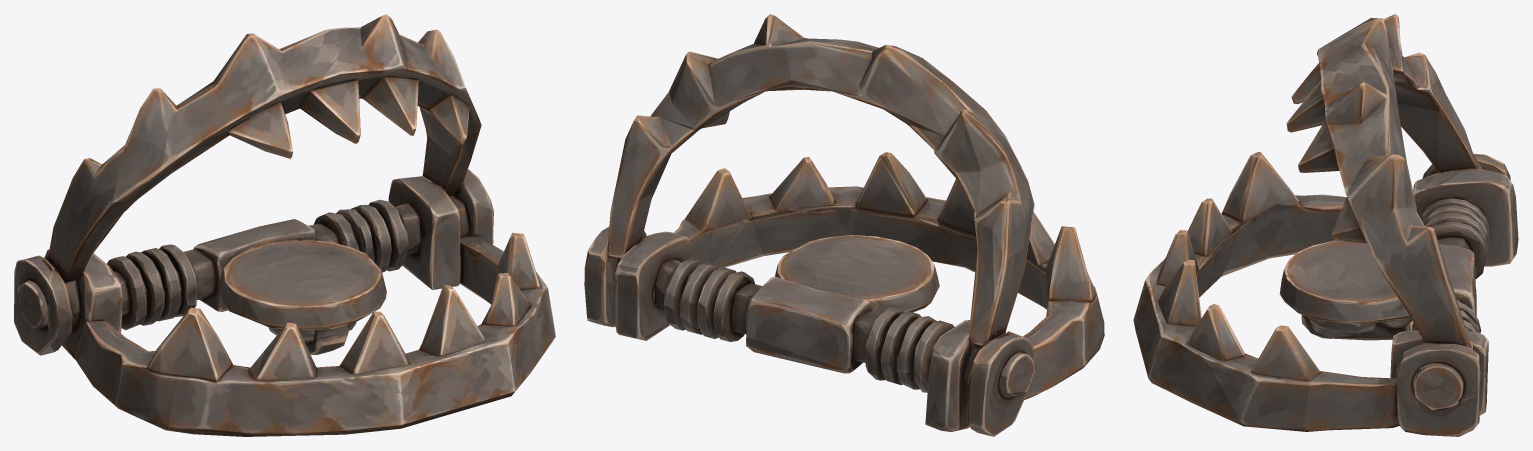
The model's file is bear-trap.hq.glb.
3 views of the same model, side by side, from view 1: azimuth 30°, elevation 25°; view 2: azimuth 150°, elevation 25°; view 3: azimuth 270°, elevation 25° (orthographic). The views are drawn at different scales.
Visible parts, largest first — view 1: output_unwrapped; view 2: output_unwrapped; view 3: output_unwrapped.
Part boxes in pixels (left/top/right/bottom): output_unwrapped: left=14, top=14, right=555, bottom=436; output_unwrapped: left=584, top=14, right=1104, bottom=436; output_unwrapped: left=1133, top=14, right=1518, bottom=436.
Bounding box in the file's own units: 1.9 × 1.28 × 1.49.
Materials: 1 (1 with a texture image).
